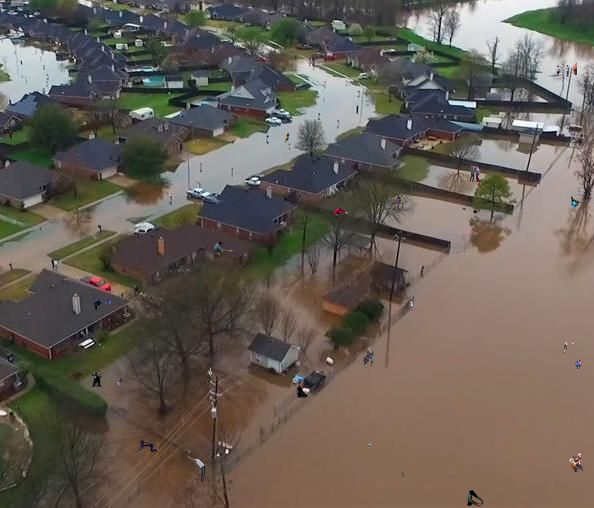Human: (453, 165, 483, 182), (456, 489, 484, 507), (187, 456, 206, 482), (134, 440, 172, 453), (214, 242, 241, 260), (91, 372, 123, 387), (547, 61, 577, 77), (569, 453, 584, 472), (361, 348, 374, 368), (93, 297, 111, 310), (296, 382, 308, 398), (3, 123, 13, 141), (333, 206, 349, 217), (569, 196, 582, 209), (563, 340, 575, 354), (396, 196, 404, 210), (215, 327, 232, 333), (207, 366, 213, 380), (120, 1, 132, 7), (575, 360, 582, 369), (285, 132, 290, 143), (6, 351, 11, 362), (54, 259, 59, 270), (180, 108, 186, 117), (97, 223, 102, 232), (51, 258, 55, 269), (410, 300, 413, 310), (228, 40, 235, 44), (401, 472, 405, 479), (356, 104, 359, 113), (368, 443, 371, 448), (452, 469, 454, 476), (322, 192, 324, 196), (309, 20, 310, 25), (143, 328, 144, 329)
